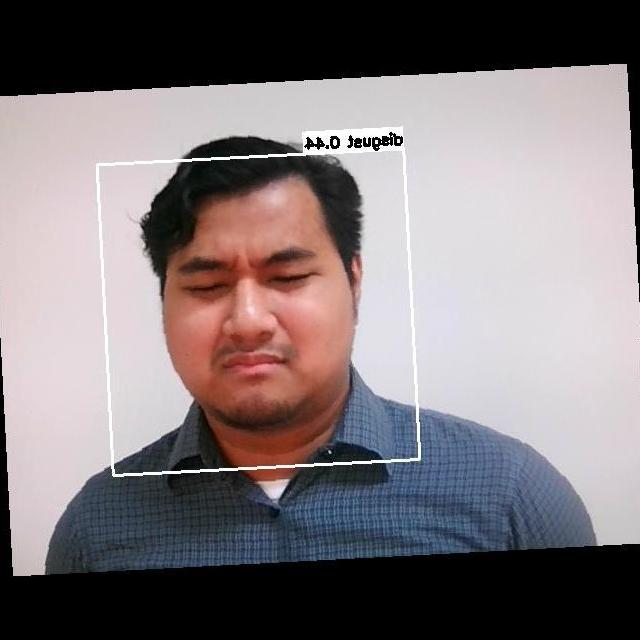Disgust: (152, 224, 352, 392)
